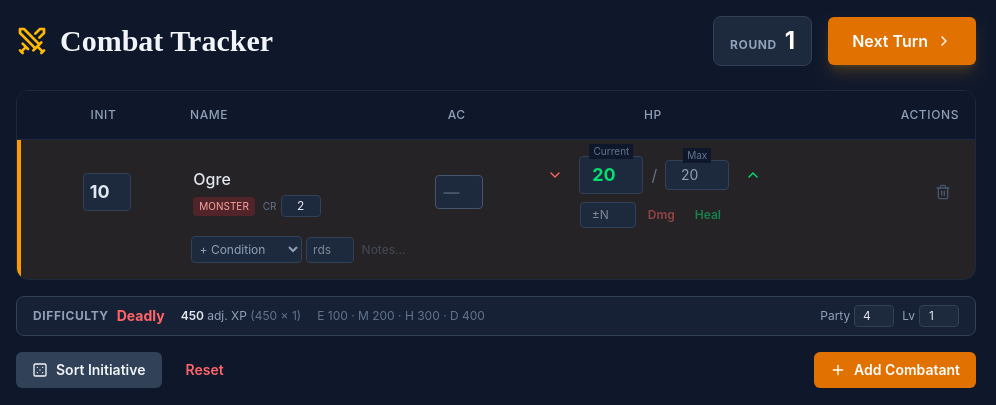
Test: encounter difficulty readout › uses the party size / level inputs when no PCs are in the fight
The width and height of the screenshot is (996, 405).
Check: the text with test id "encounter-difficulty-rating" reads "Deadly", box [117,307,165,324]
Replace the text in the number field named "Party level" with "5": (939, 316) [919,305,959,327]
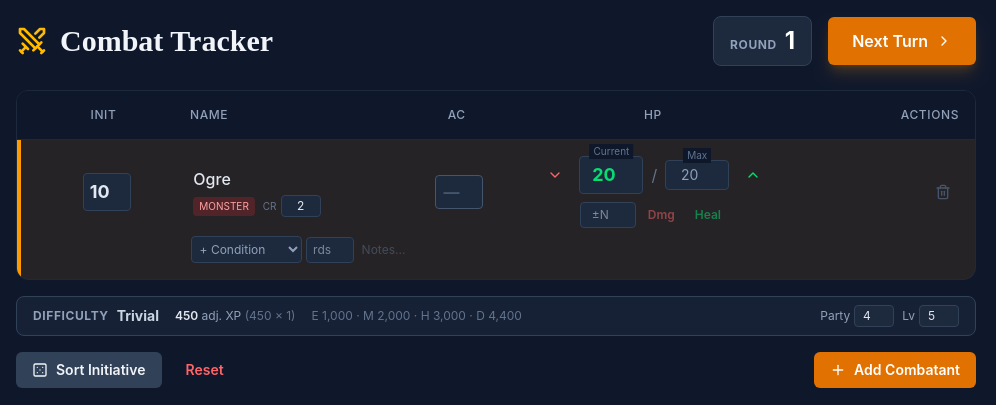
Check: the text with test id "encounter-difficulty-rating" reads "Trivial", box [117,307,159,324]
Replace the text in the number field named "Party level" with "2": (939, 316) [919,305,959,327]
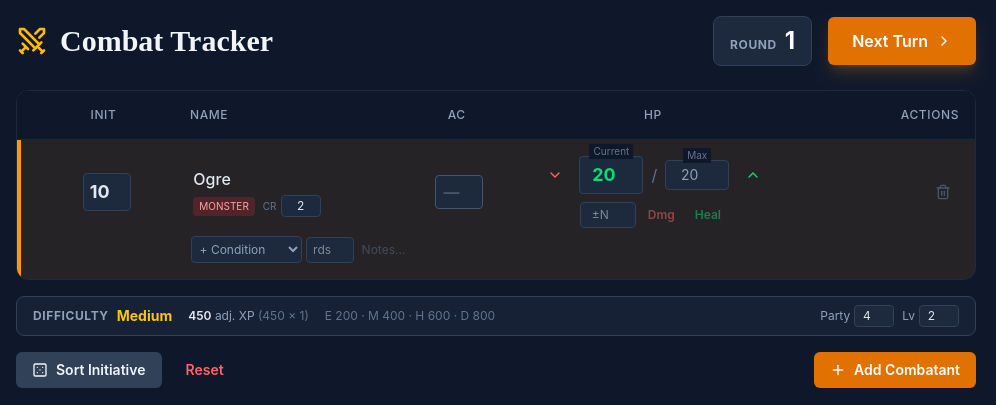
Replace the text in the number field named "Party size" with "2": (874, 316) [854,305,894,327]
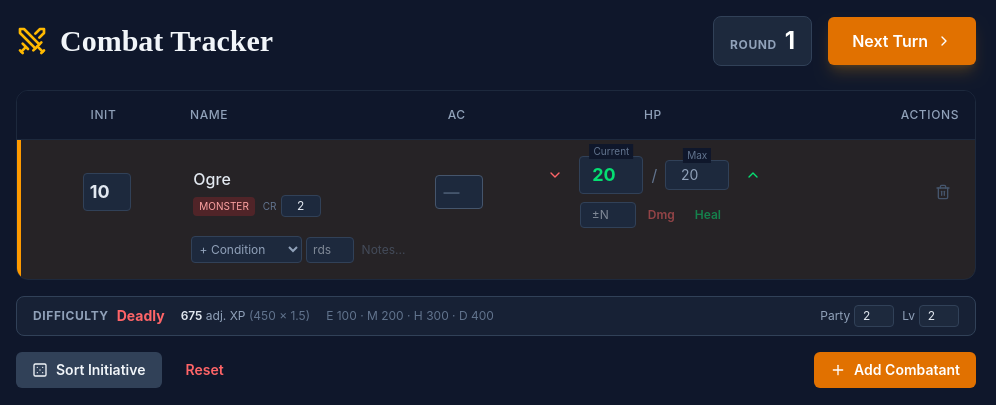
Check: the text with test id "encounter-difficulty-rating" reads "Deadly", box [117,307,165,324]
